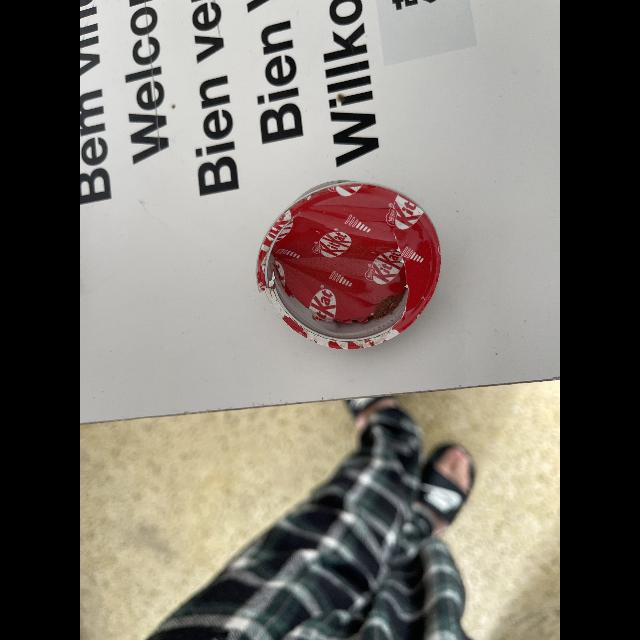damaged_capsule: (251, 175, 447, 359)
